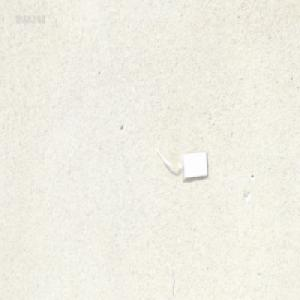LuggageTag: (154, 149, 208, 180)
